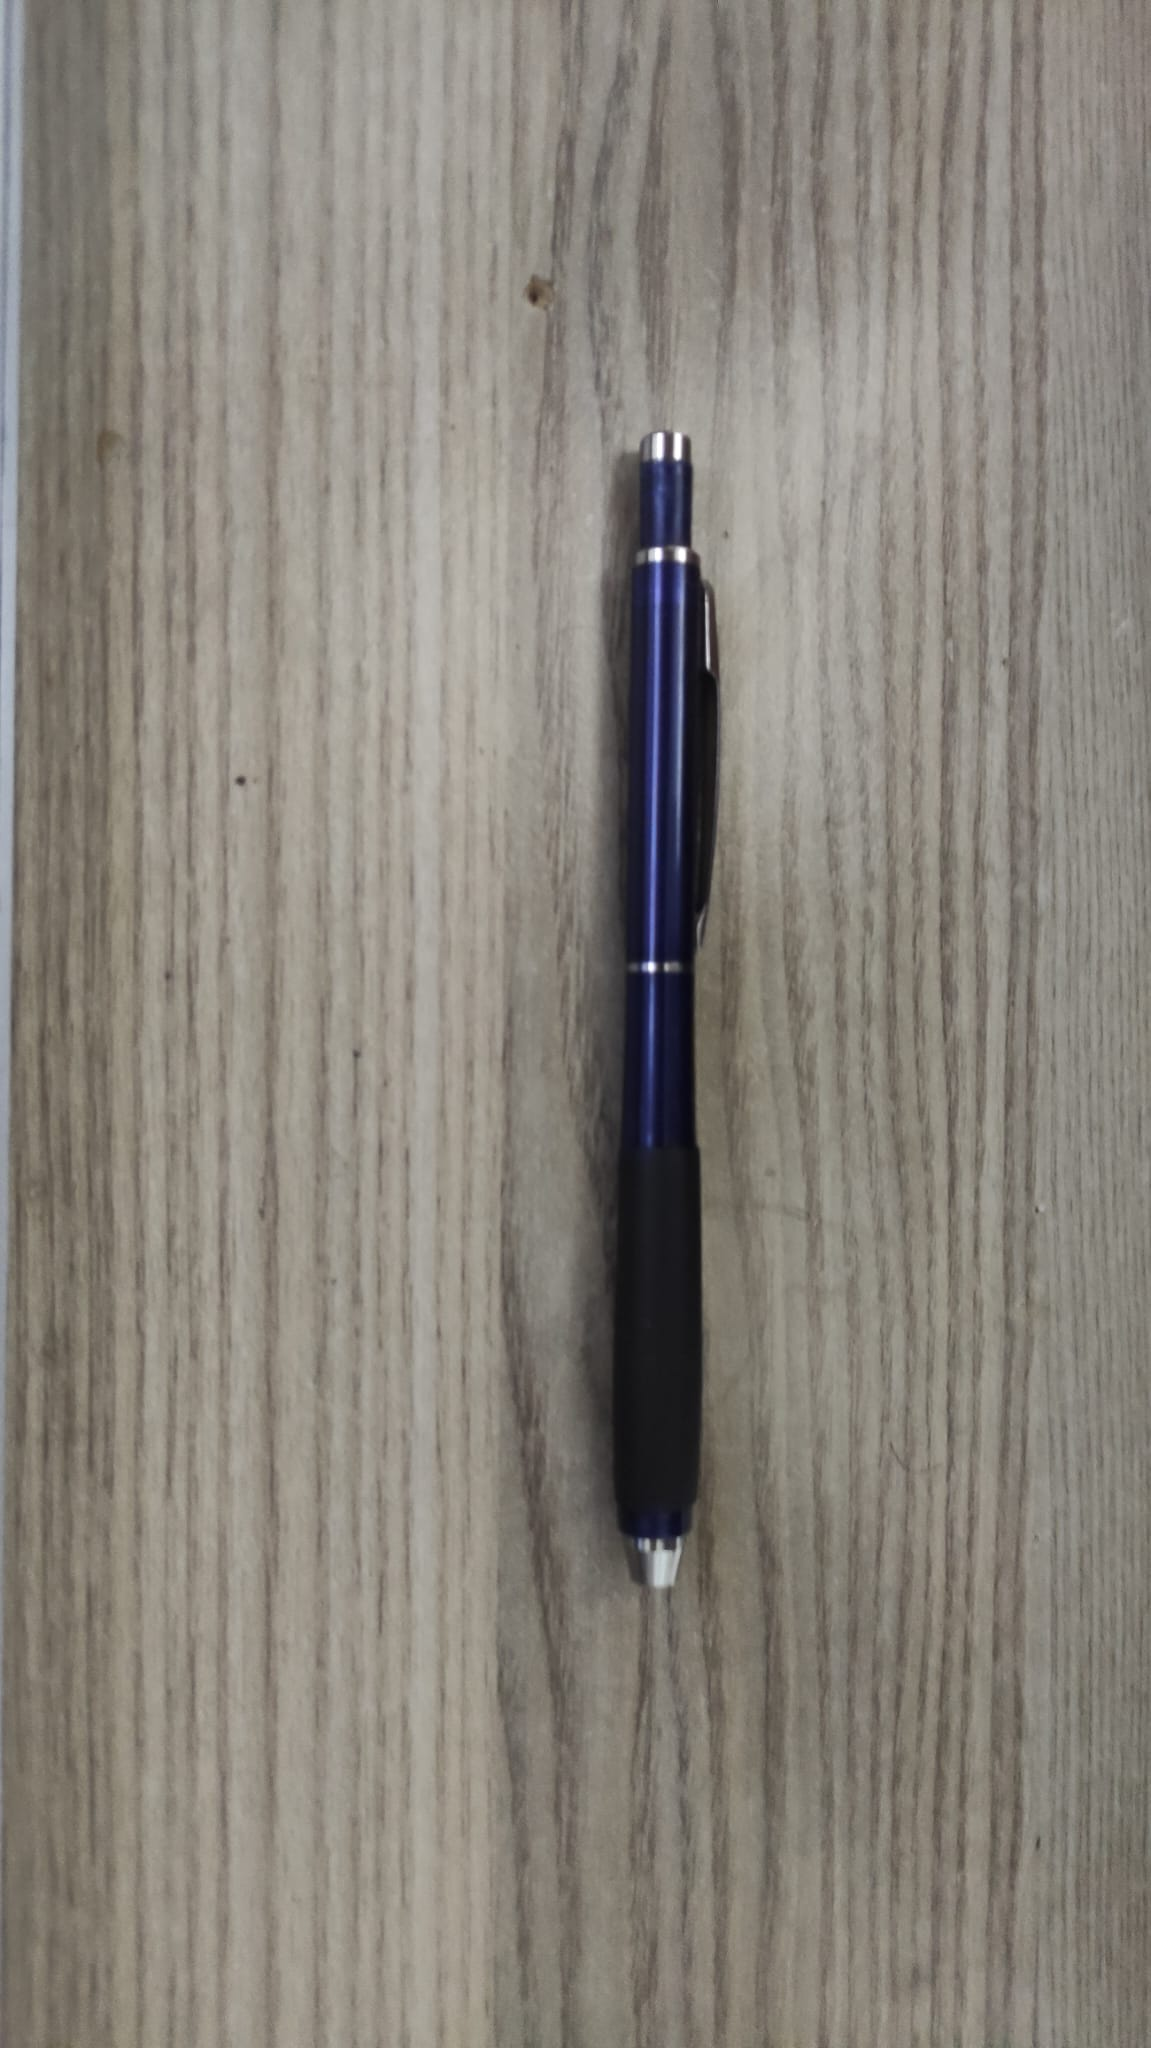kalem: (613, 428, 725, 1604)
